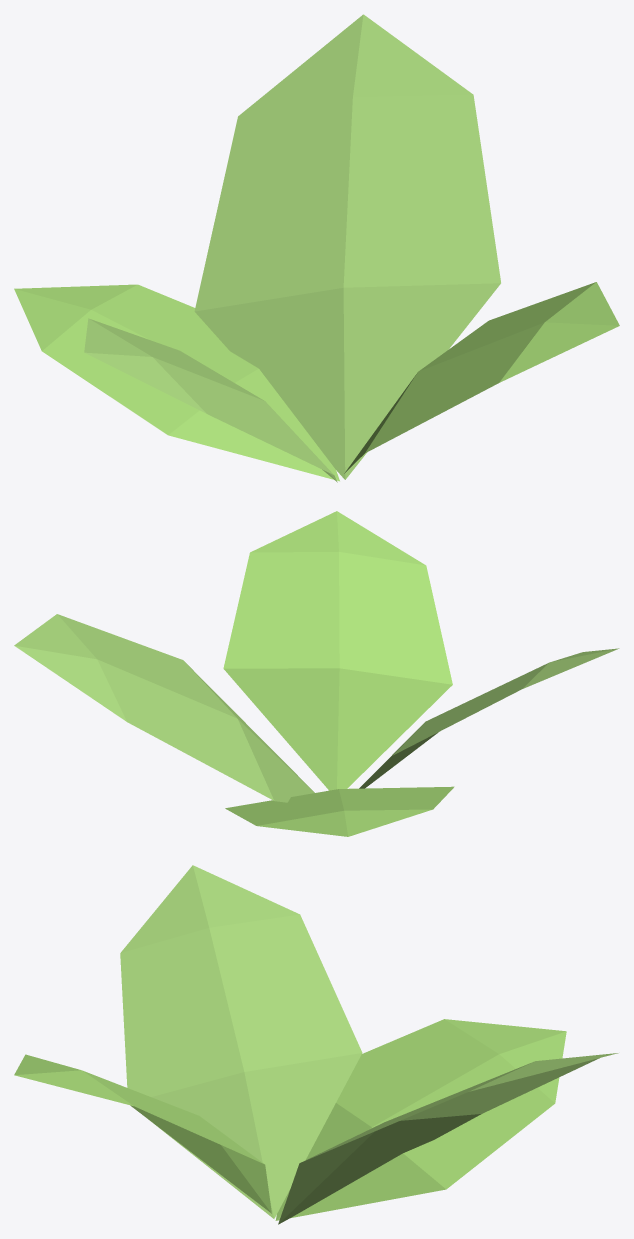
The model's file is Plant_h_OneS_04.fbx.
3 views of the same model, one above another, from view 1: azimuth 30°, elevation 25°; view 2: azimuth 150°, elevation 25°; view 3: azimuth 270°, elevation 25° (orthographic). The views are drawn at different scales.
Parts seen in each view (by area): view 1: Plant_h_OneS_04; view 2: Plant_h_OneS_04; view 3: Plant_h_OneS_04.
Part boxes in pixels (x1,y1,x2,y2): Plant_h_OneS_04: (14,14,619,482); Plant_h_OneS_04: (14,511,619,836); Plant_h_OneS_04: (14,865,618,1224).
Size of the model in its own units: 0.3713 by 0.1868 by 0.3888.
